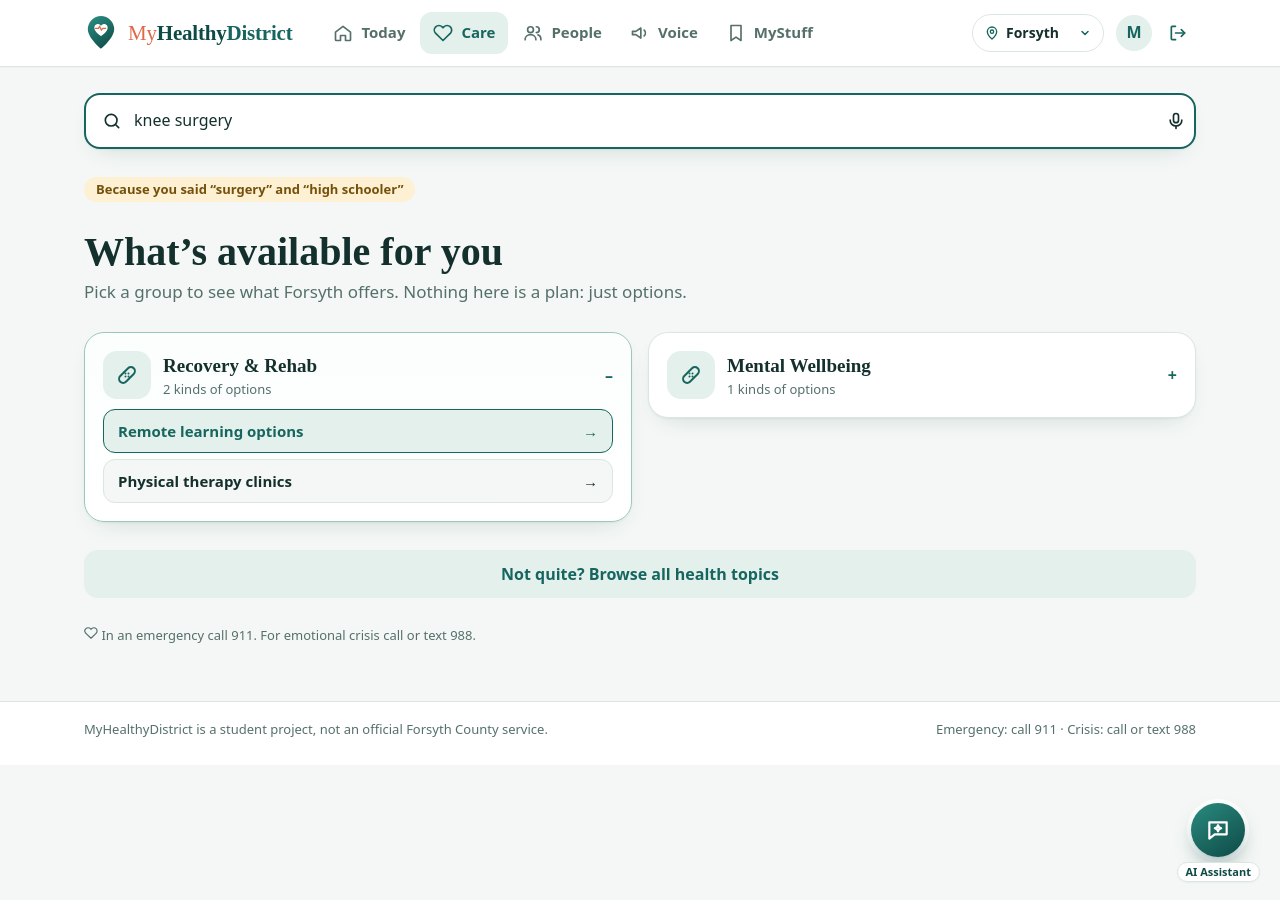
Test: Maya's flow › routes a sentence to the Care results with "Because you said" and an open group
The width and height of the screenshot is (1280, 900).
Expected: the text "Because you said “surgery” and “high schooler”" is shown, [84, 177, 415, 202]
Click the button "Mental Wellbeing 1 kinds of options +": (691, 375) [667, 352, 1177, 400]
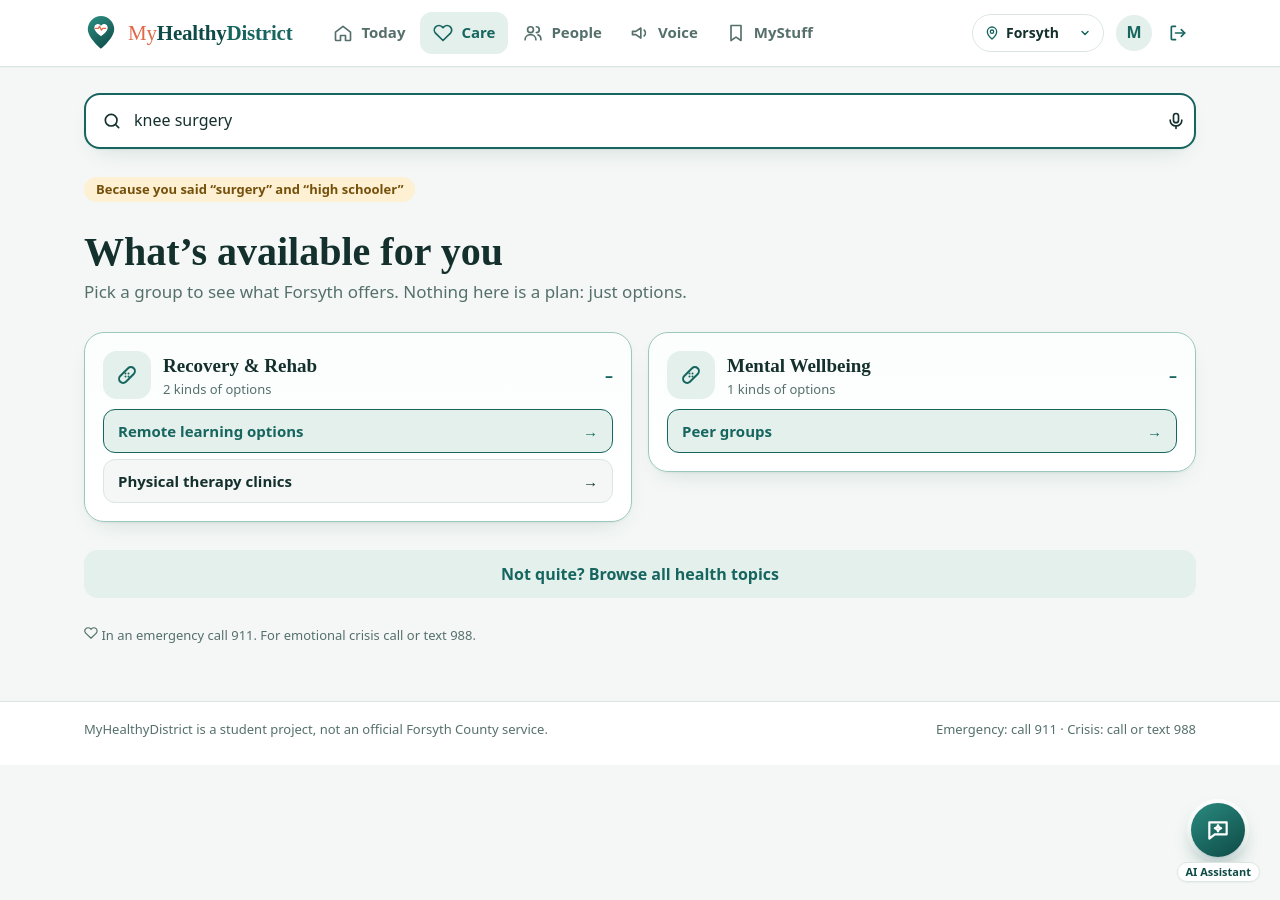
Now the link "Peer groups →" is shown, box [667, 410, 1177, 454]
